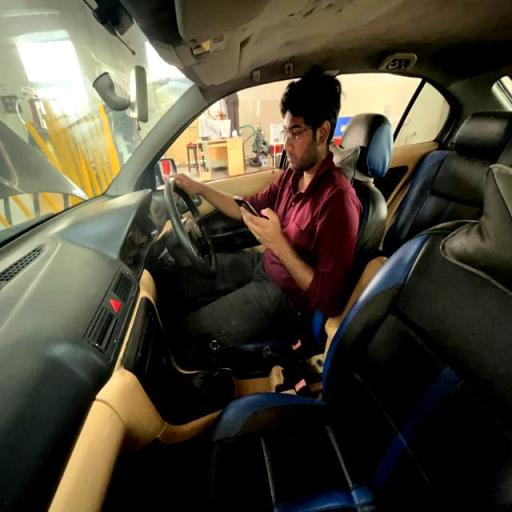Texting_on_phone: (176, 72, 361, 308)
